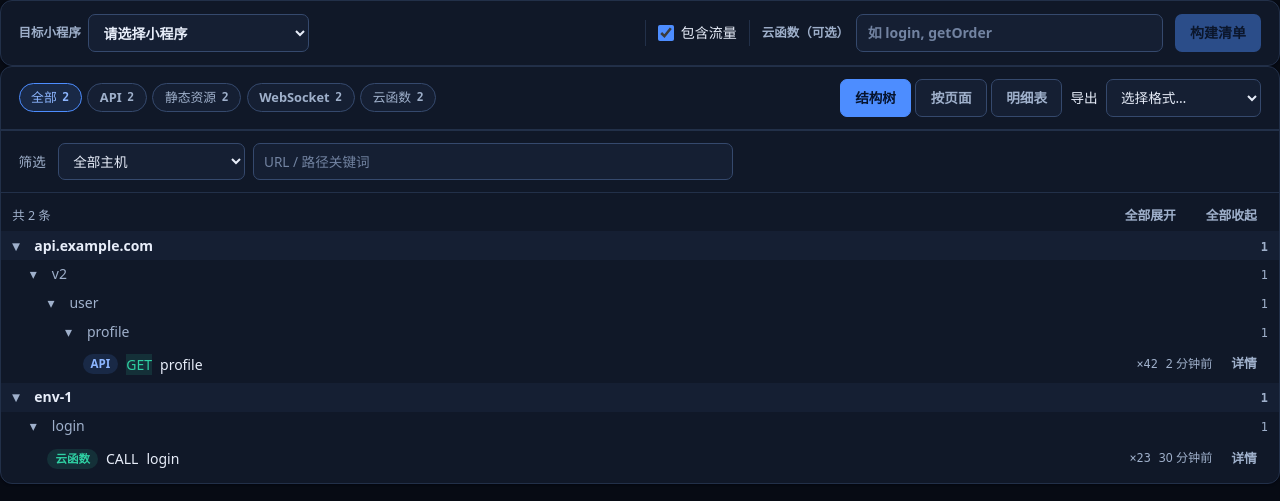
Test case: AssetsView › groups assets by the page that references them in the pages view
Click the button with test id "assets-view-pages" at (951, 98), box x1=915 y1=79 x2=987 y2=117
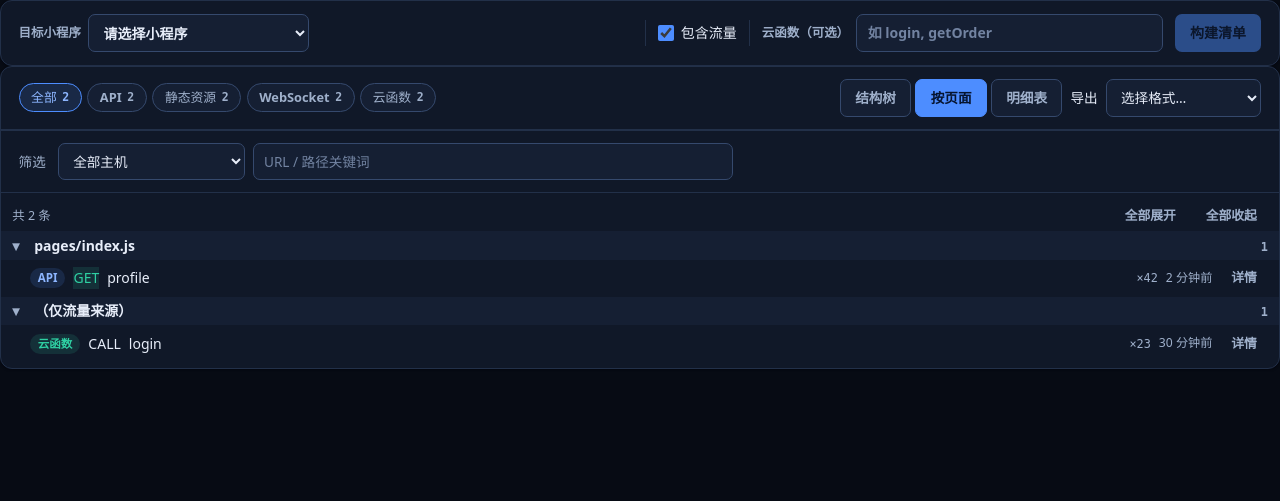
Expected: the element with test id "assets-row-a-1" shows "GET", x1=74 y1=268 x2=99 y2=287
Expected: the elements with class "tree-name" read "pages/index.js", "（仅流量来源）", in this order, x1=34 y1=235 x2=135 y2=256; x1=34 y1=300 x2=132 y2=322
